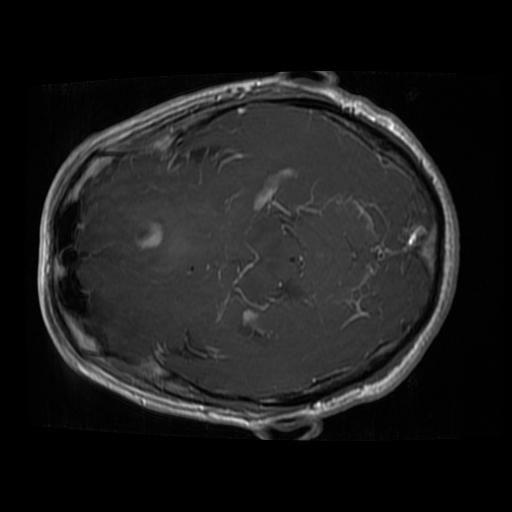glioma: (239, 200, 379, 306)
